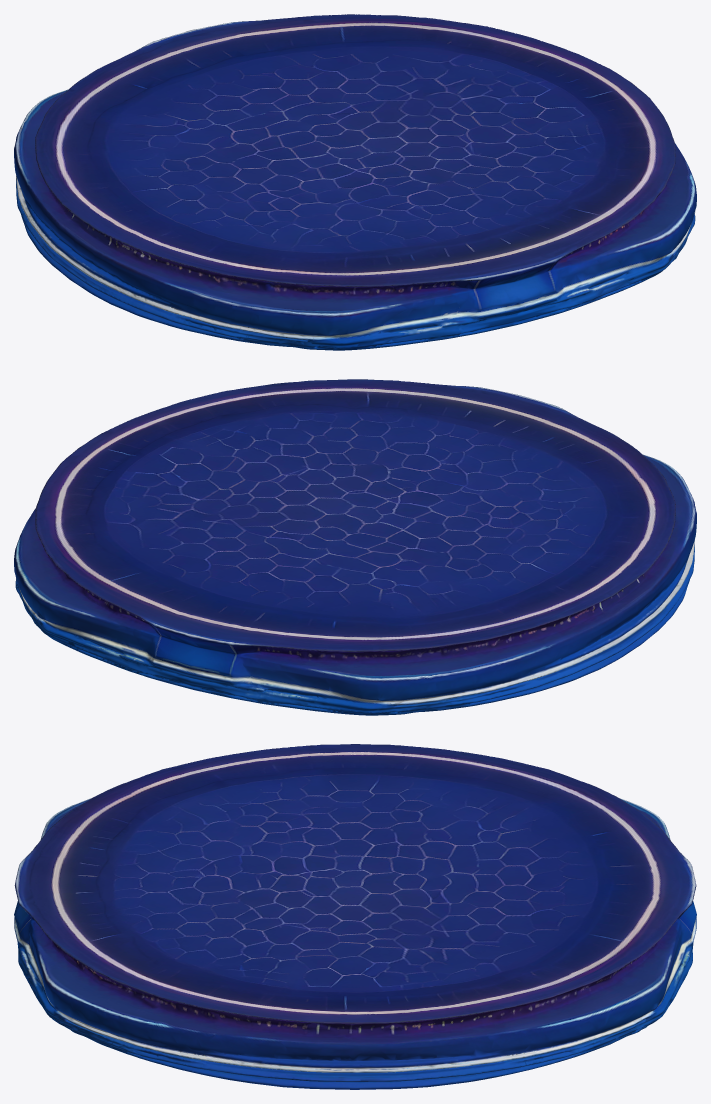
Rendered from platform2.glb.
The picture shows the model from 3 angles, top to bottom: view 1: azimuth 30°, elevation 25°; view 2: azimuth 150°, elevation 25°; view 3: azimuth 270°, elevation 25°; orthographic projection. The views are drawn at different scales.
Visible parts, largest first — view 1: tripo_node_85f7c27a-3343-41c7-b84a-bcf184e7855d; view 2: tripo_node_85f7c27a-3343-41c7-b84a-bcf184e7855d; view 3: tripo_node_85f7c27a-3343-41c7-b84a-bcf184e7855d.
Part boxes in pixels (x1=…): tripo_node_85f7c27a-3343-41c7-b84a-bcf184e7855d: x1=14, y1=14, x2=696, y2=350; tripo_node_85f7c27a-3343-41c7-b84a-bcf184e7855d: x1=14, y1=379, x2=696, y2=715; tripo_node_85f7c27a-3343-41c7-b84a-bcf184e7855d: x1=14, y1=744, x2=696, y2=1089.
Bounding box in the file's own units: 1 × 0.1634 × 0.9989.
Materials: 1 (1 with a texture image).
